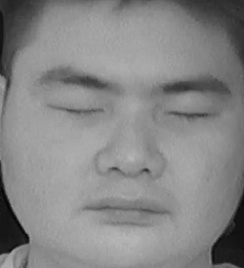blink: (46, 91, 111, 129), (166, 95, 220, 130)
mouth: (78, 186, 170, 231)
